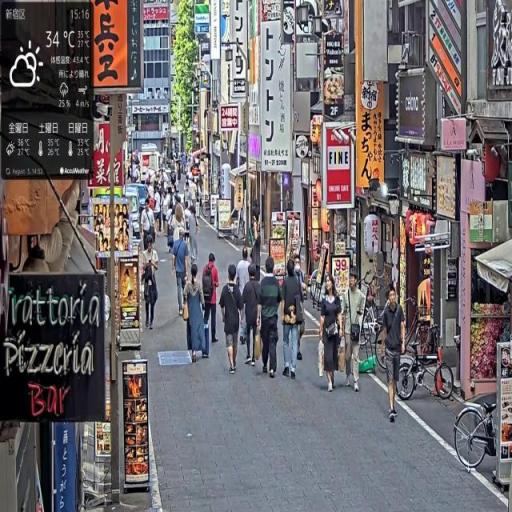person: (377, 287, 407, 425), (258, 257, 284, 379), (280, 258, 306, 379), (318, 276, 344, 395), (219, 264, 245, 377), (341, 271, 365, 393), (183, 263, 208, 365), (243, 264, 262, 369), (202, 251, 221, 352), (141, 233, 160, 333), (172, 228, 190, 319), (140, 199, 157, 253)
